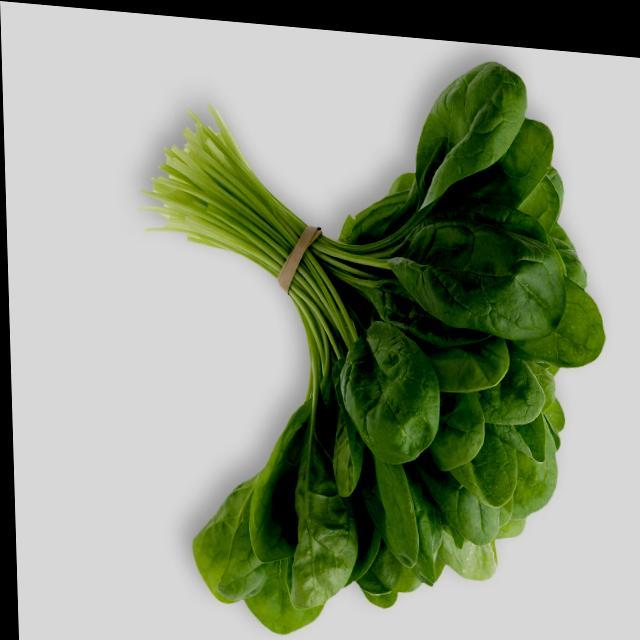Spinach: (124, 20, 616, 640)
